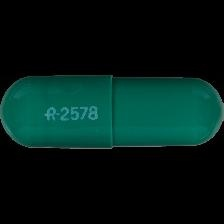53808-0695: (0, 0, 224, 224)
